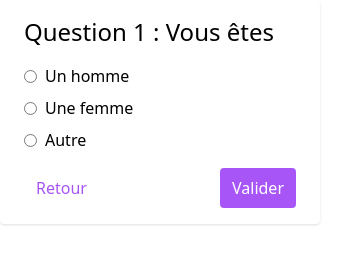
Dynamic Form Component test suite › it goes back to the previous question when you click on back button
Click the radio button labelled "Un homme".
click(30, 76)  # box x1=24 y1=70 x2=37 y2=82
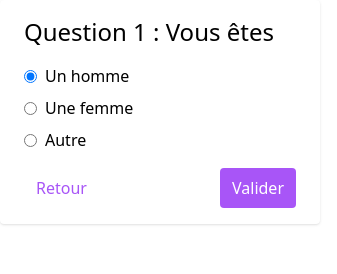
Click the button "Valider".
click(258, 188)  # box x1=220 y1=168 x2=296 y2=208
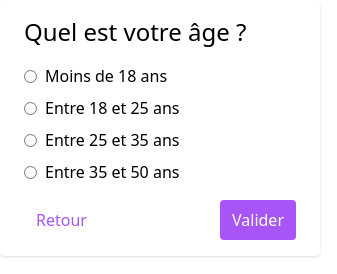
Click the button "Retour".
click(61, 220)  # box x1=24 y1=200 x2=99 y2=240
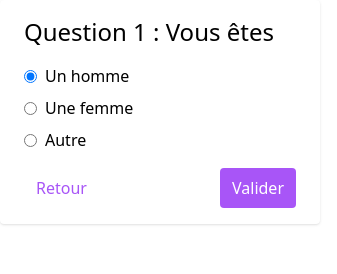
Expected: the text "Question 1 : Vous êtes" is shown, x1=24 y1=16 x2=296 y2=48
